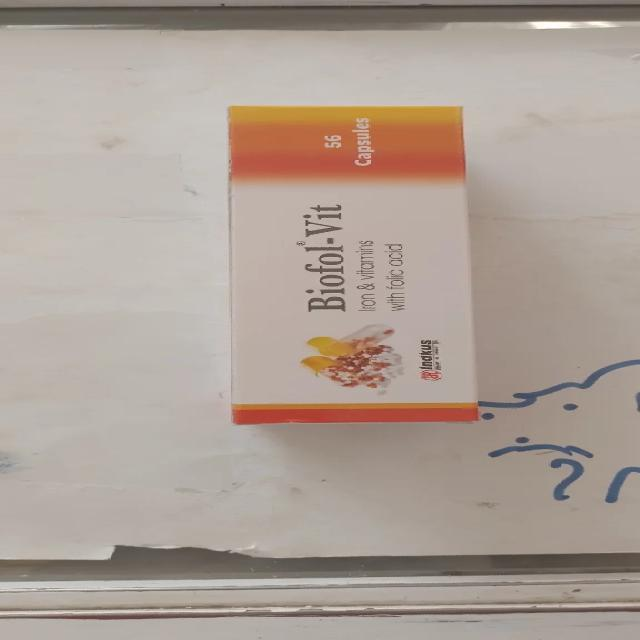drug-name: (294, 195, 348, 314)
